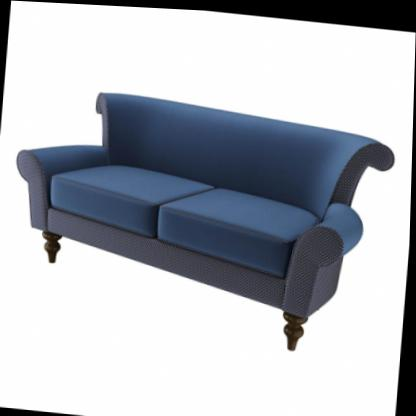Sofa: (4, 80, 399, 359)
